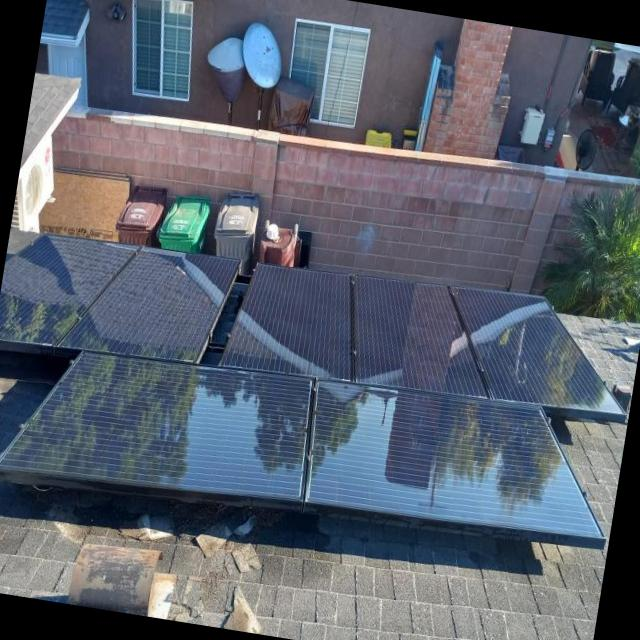no faulty: (309, 377, 597, 543), (0, 350, 311, 502), (54, 247, 239, 369), (454, 288, 622, 417), (356, 274, 488, 402), (219, 260, 353, 386), (0, 234, 141, 342)
